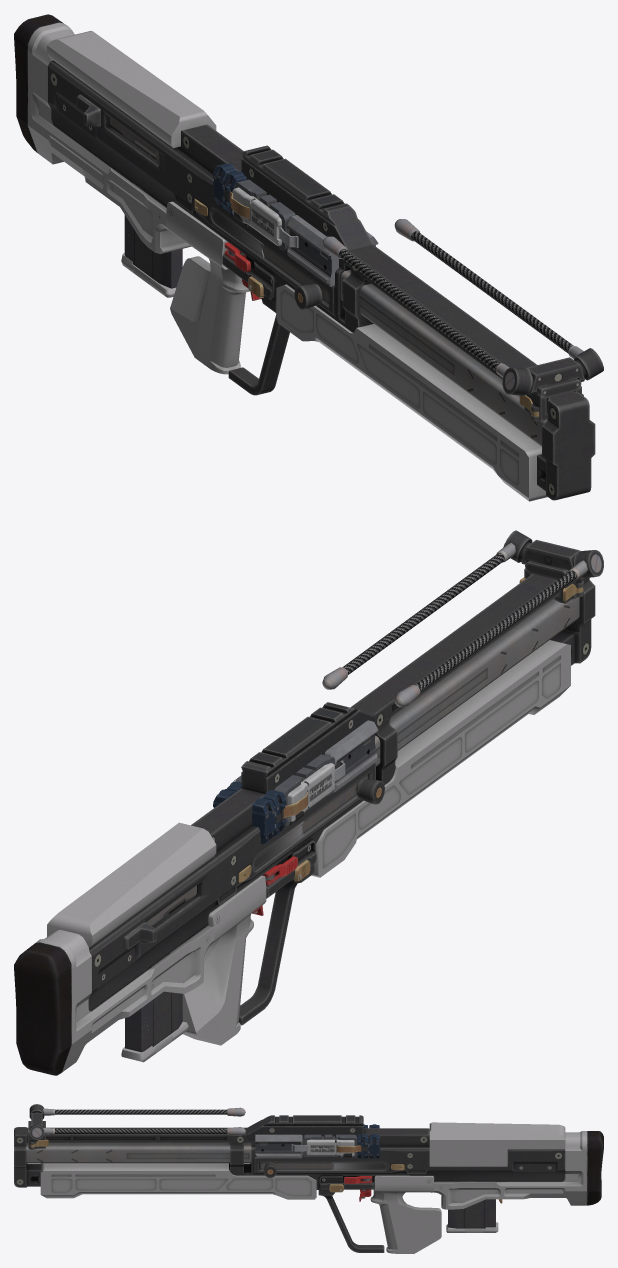
File: raw.glb
The picture shows the model from 3 angles, top to bottom: view 1: azimuth 30°, elevation 25°; view 2: azimuth 150°, elevation 25°; view 3: azimuth 270°, elevation 25°; orthographic projection. The views are drawn at different scales.
Parts seen in each view (by area): view 1: makiatto_ssr_LOD0; view 2: makiatto_ssr_LOD0; view 3: makiatto_ssr_LOD0.
Part boxes in pixels (x1,y1,x2,y2): makiatto_ssr_LOD0: (14,14,603,501); makiatto_ssr_LOD0: (14,530,603,1075); makiatto_ssr_LOD0: (14,1104,603,1253).
Bounding box in the file's own units: 0.0817 × 0.2088 × 0.8168.
1 material, 1 textured.
